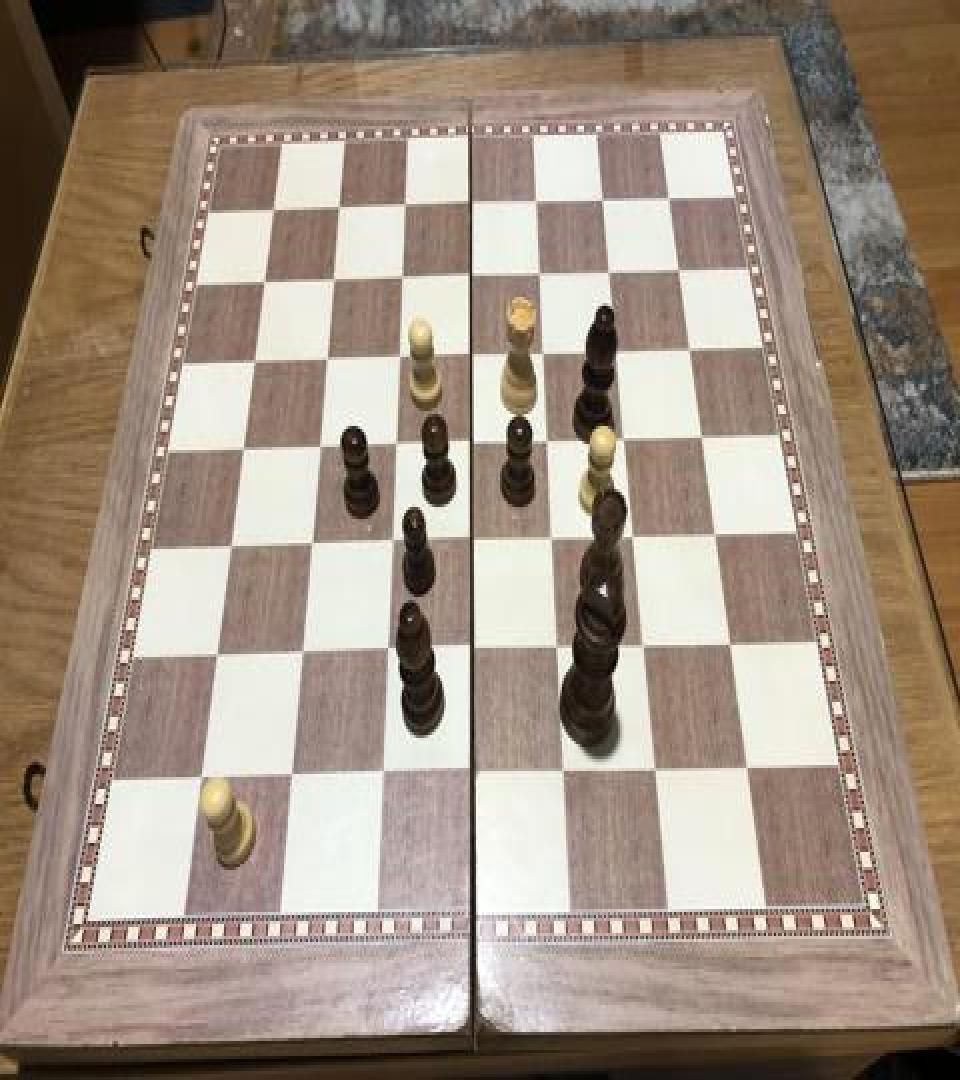xcorner: (541, 520, 565, 557), (716, 625, 740, 662), (461, 631, 485, 668), (205, 637, 229, 674), (733, 748, 757, 785), (461, 754, 485, 791), (657, 182, 681, 218), (592, 184, 616, 220), (526, 186, 550, 222), (395, 189, 419, 225), (330, 190, 354, 226), (265, 192, 289, 228), (667, 254, 691, 290), (598, 255, 622, 291), (529, 256, 553, 292), (392, 261, 416, 297), (324, 262, 348, 298), (255, 264, 279, 300), (677, 332, 701, 368), (605, 334, 629, 370), (533, 336, 557, 372), (461, 338, 485, 374), (389, 339, 413, 375), (316, 342, 340, 378), (689, 418, 713, 454), (613, 422, 637, 458), (537, 423, 561, 459), (461, 424, 485, 460), (385, 428, 409, 464), (309, 429, 333, 465), (702, 516, 726, 552), (621, 518, 645, 554), (461, 522, 485, 558), (380, 525, 404, 561), (300, 526, 324, 562), (220, 528, 244, 564), (631, 627, 655, 663), (546, 630, 570, 666), (375, 633, 399, 669), (290, 636, 314, 672), (642, 750, 666, 786), (551, 753, 575, 789), (370, 758, 394, 794), (279, 759, 303, 795), (189, 762, 213, 798), (461, 188, 485, 223), (461, 260, 485, 295), (244, 344, 268, 379), (233, 431, 257, 466)
